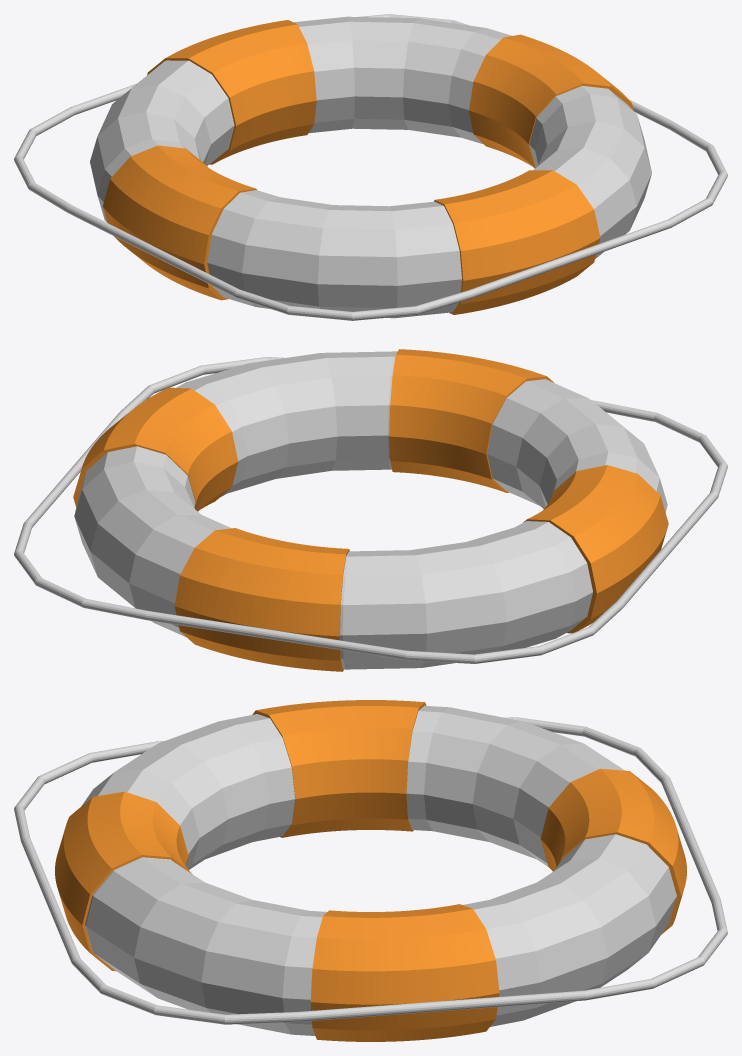
Rendered from 6b9eb5e5-a2d9-41b8-b6b1-4db908eadd46.glb.
The picture shows the model from 3 angles, top to bottom: view 1: azimuth 30°, elevation 25°; view 2: azimuth 150°, elevation 25°; view 3: azimuth 270°, elevation 25°; orthographic projection. The views are drawn at different scales.
Parts seen in each view (by area): view 1: Torus, Torus.1_2, Torus.1_3, Torus.1_0, Rectangle_sweep, Torus.1_1; view 2: Torus, Torus.1_0, Torus.1_2, Rectangle_sweep, Torus.1_3, Torus.1_1; view 3: Torus, Torus.1_1, Torus.1_3, Rectangle_sweep, Torus.1_2, Torus.1_0.
Part boxes in pixels (bbox=[...]): Torus: bbox=[90, 16, 651, 318]; Torus.1_2: bbox=[434, 170, 600, 314]; Torus.1_3: bbox=[102, 145, 257, 300]; Torus.1_0: bbox=[147, 20, 316, 164]; Rectangle_sweep: bbox=[14, 14, 727, 320]; Torus.1_1: bbox=[469, 34, 633, 168]; Torus: bbox=[74, 351, 667, 669]; Torus.1_0: bbox=[174, 528, 349, 671]; Torus.1_2: bbox=[389, 349, 553, 492]; Rectangle_sweep: bbox=[14, 357, 727, 663]; Torus.1_3: bbox=[523, 465, 668, 633]; Torus.1_1: bbox=[73, 387, 238, 511]; Torus: bbox=[82, 705, 676, 1035]; Torus.1_1: bbox=[310, 904, 499, 1041]; Torus.1_3: bbox=[252, 700, 426, 837]; Rectangle_sweep: bbox=[14, 717, 727, 1024]; Torus.1_2: bbox=[55, 791, 191, 971]; Torus.1_0: bbox=[540, 768, 686, 934].
Bounding box in the file's own units: 285 × 52.11 × 285.
